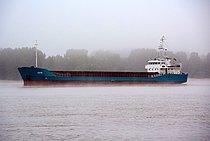Ship: (16, 36, 192, 89)
